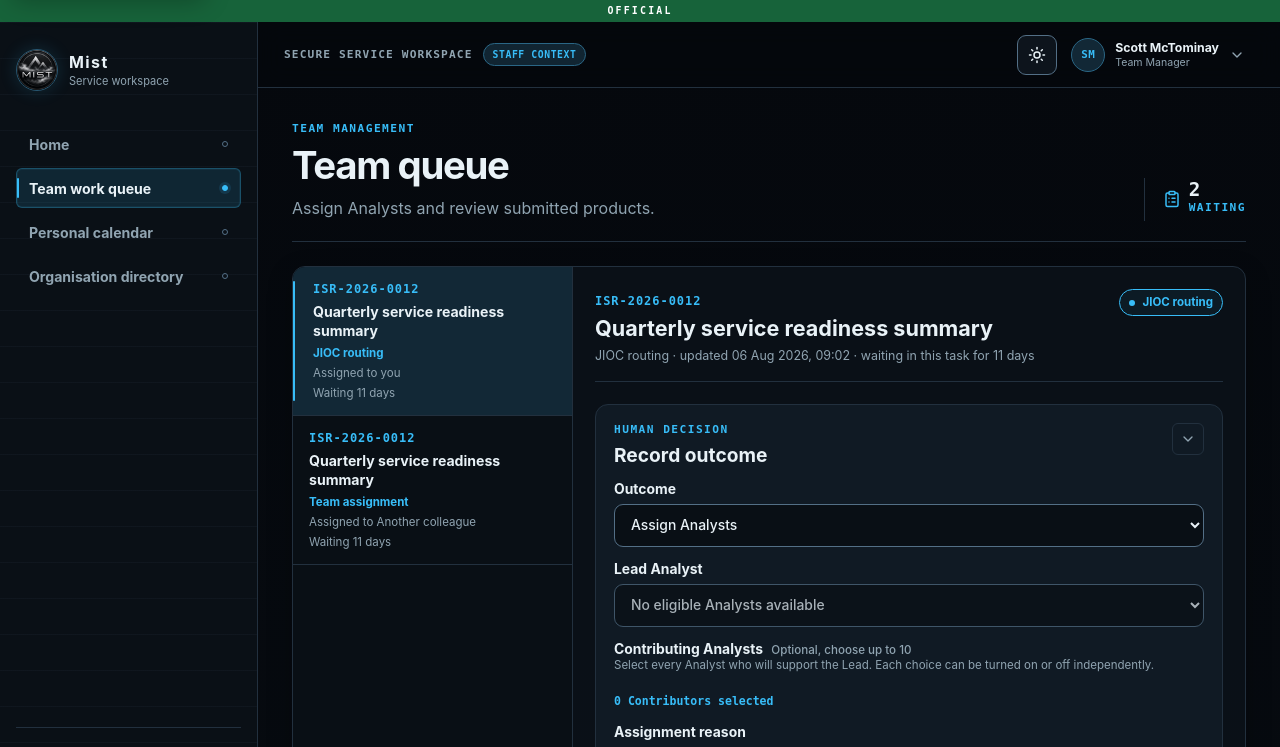
staff work queue › does not request specialists outside delivery planning or for another owner
expect the dropdown labelled "Lead Analyst" is disabled: met, box [614,584,1204,627]
Click the button "Quarterly service readiness summary" at (362, 438), box [293,416,572,565]
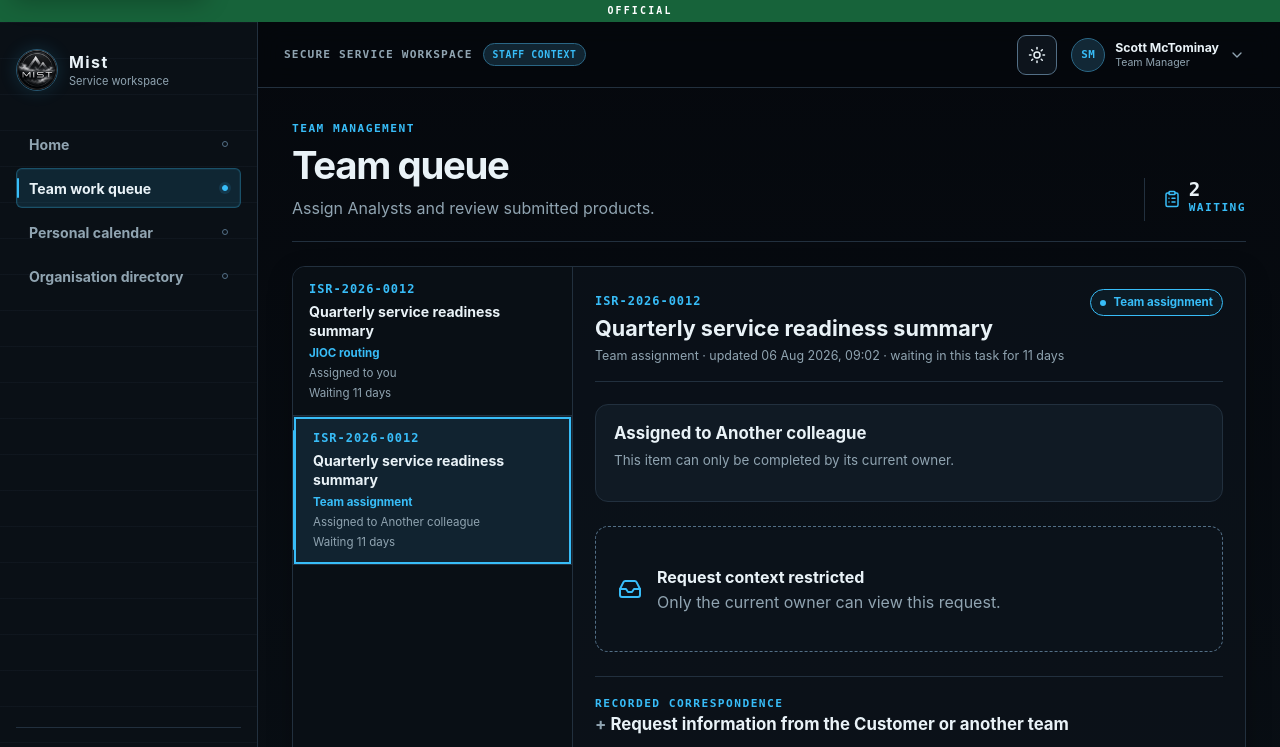
expect the heading "Assigned to Another colleague" is shown: met, box [614,423,866,443]
